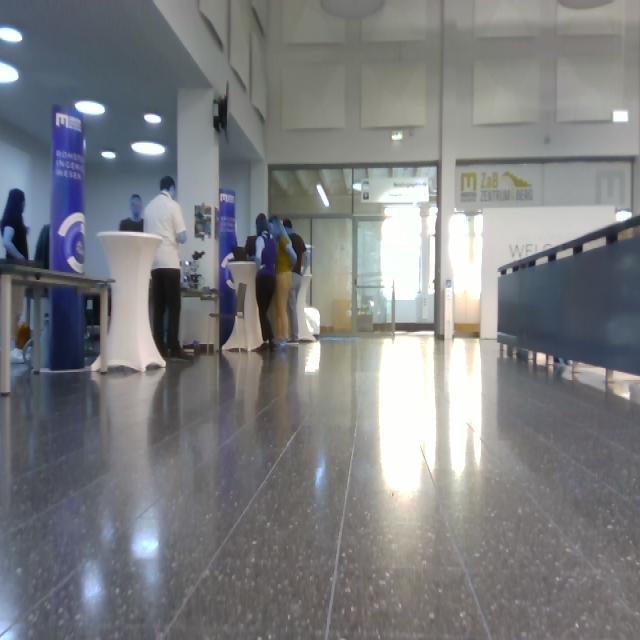door: (312, 217, 354, 333), (354, 217, 388, 332)
light bulb: (131, 141, 166, 156), (75, 100, 105, 116), (1, 61, 19, 84), (1, 26, 23, 44), (316, 184, 330, 208), (144, 113, 162, 125), (616, 209, 632, 222), (101, 150, 116, 160)
person: (143, 176, 194, 361), (1, 188, 31, 364), (268, 215, 298, 343), (254, 213, 280, 352), (283, 218, 309, 344), (119, 194, 145, 233)
pillar: (48, 104, 87, 370), (97, 230, 167, 373)
staircase: (496, 213, 640, 385)
tiled floor: (1, 329, 639, 638)
